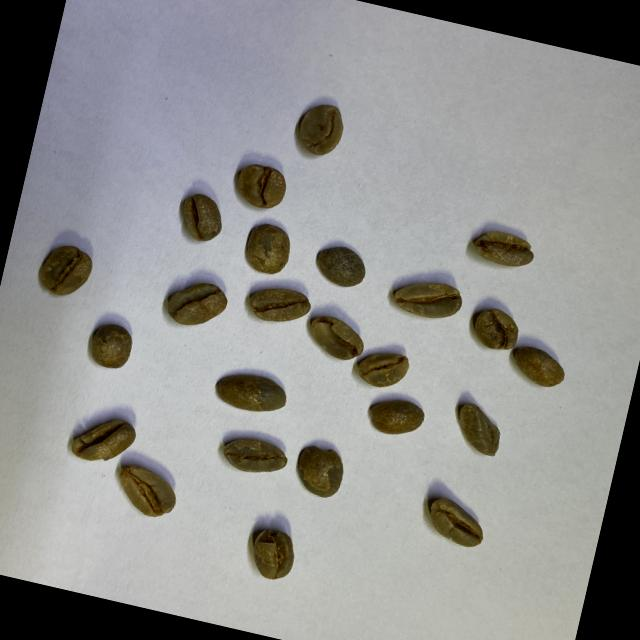bad: (68, 410, 138, 470), (448, 398, 508, 458), (424, 495, 488, 550), (292, 98, 348, 160), (246, 522, 301, 584), (302, 314, 368, 364), (470, 226, 538, 272), (354, 344, 412, 394), (468, 304, 524, 354)
good: (109, 460, 182, 522), (212, 366, 290, 419), (162, 275, 230, 334), (218, 429, 292, 482), (391, 273, 465, 325), (34, 240, 96, 302), (291, 441, 348, 502), (244, 280, 313, 330), (363, 392, 428, 444), (238, 220, 296, 278), (232, 160, 290, 214), (507, 342, 569, 392), (174, 190, 229, 246), (311, 242, 370, 292), (85, 320, 136, 372)
